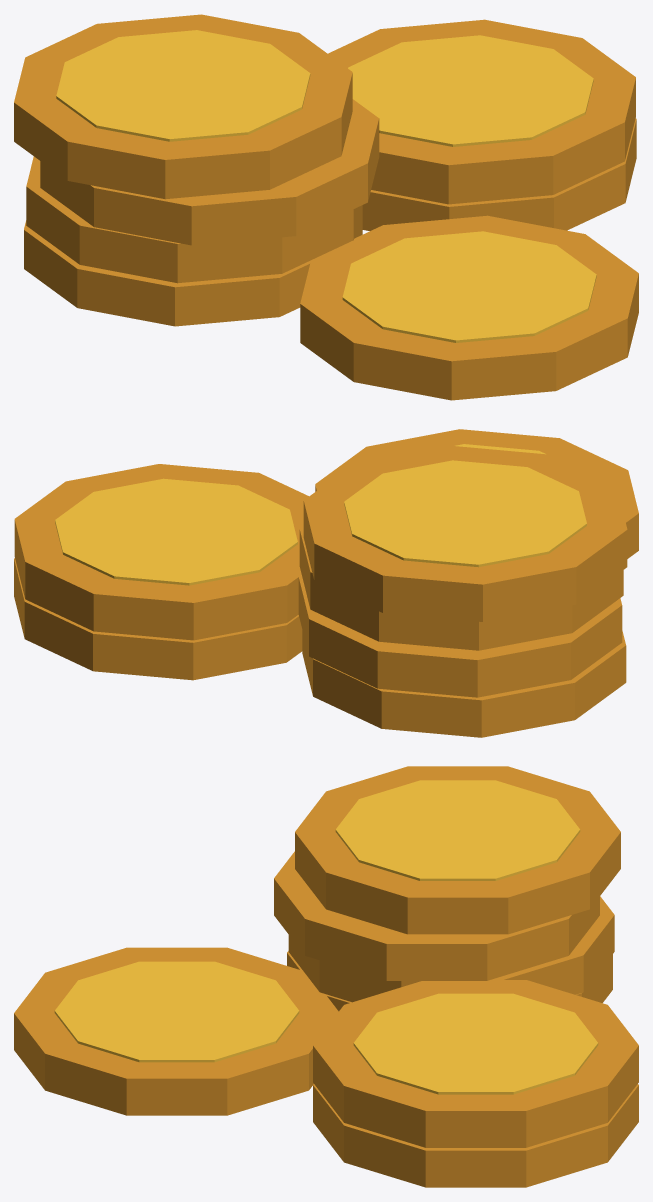
Rendered from coin_stack.glb.
The picture shows the model from 3 angles, top to bottom: view 1: azimuth 30°, elevation 25°; view 2: azimuth 150°, elevation 25°; view 3: azimuth 270°, elevation 25°; orthographic projection. The views are drawn at different scales.
Visible parts, largest first — view 1: coin_stack; view 2: coin_stack; view 3: coin_stack.
Boxes of the visible parts, x1,y1,x2,y2 form: coin_stack: (14,14,638,400); coin_stack: (14,429,638,737); coin_stack: (14,766,638,1187).
Size of the model in its own units: 0.4632 by 0.13 by 0.46.
